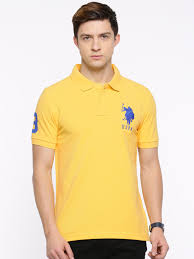C_polo shirt: (25, 58, 164, 240)
